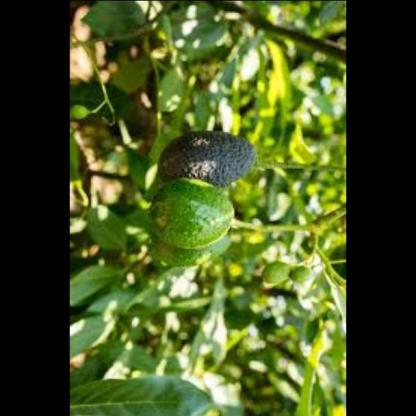avocado: (140, 177, 240, 269), (160, 131, 260, 188)
